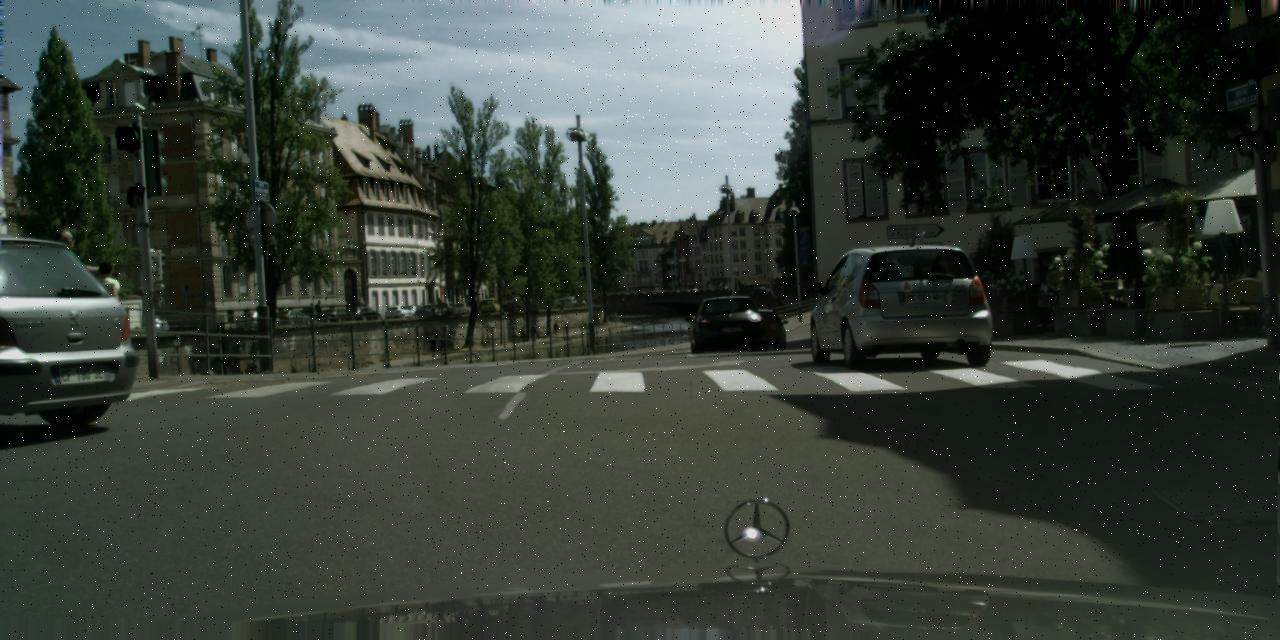ped: (314, 300, 324, 322), (306, 303, 314, 323), (435, 297, 442, 314), (430, 300, 436, 315), (564, 320, 570, 334), (553, 321, 558, 335), (612, 311, 617, 324), (608, 312, 613, 324)
